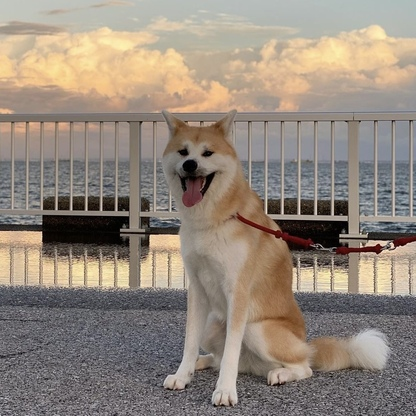akita: (150, 103, 398, 410)
